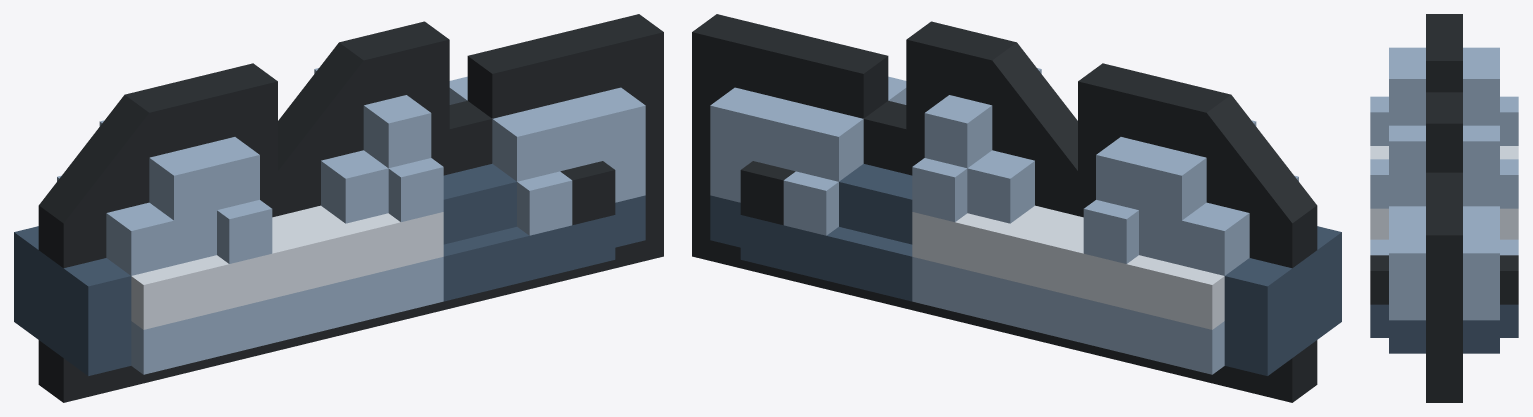
The model's file is barrel.glb.
3 renders of one model, left to right at view 1: azimuth 30°, elevation 25°; view 2: azimuth 150°, elevation 25°; view 3: azimuth 270°, elevation 25°, orthographic. The views are drawn at different scales.
Parts seen in each view (by area): view 1: generated(Clone); view 2: generated(Clone); view 3: generated(Clone).
Part boxes in pixels (left/top/right/bottom): generated(Clone): left=14, top=14, right=663, bottom=402; generated(Clone): left=692, top=14, right=1341, bottom=402; generated(Clone): left=1370, top=14, right=1518, bottom=402.
Bounding box in the file's own units: 14 × 6 × 4.
Materials: 1 (1 with a texture image).
